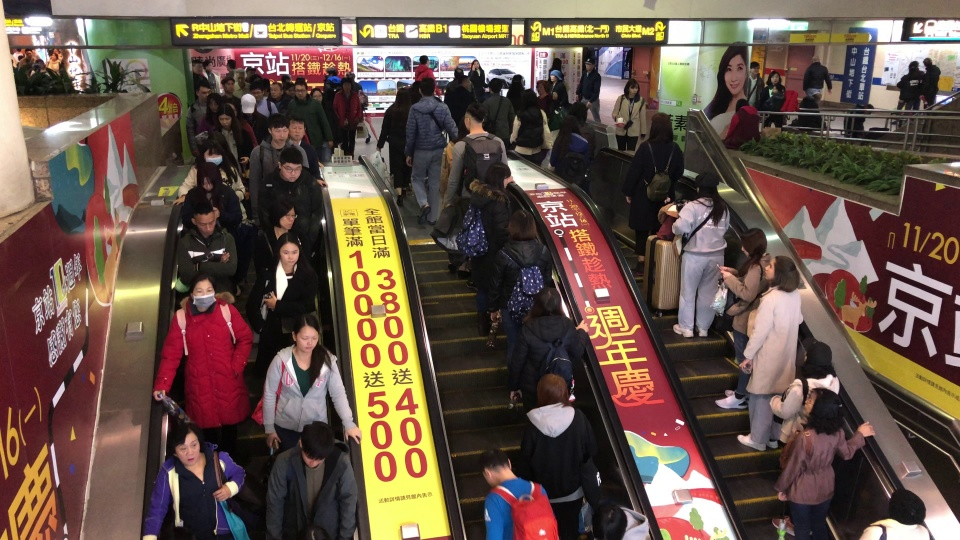person_head: (291, 314, 332, 389), (201, 135, 237, 186), (803, 390, 843, 434), (297, 420, 331, 469), (650, 112, 675, 174), (764, 256, 801, 296), (888, 488, 926, 524), (589, 506, 628, 540), (478, 450, 516, 483), (689, 169, 728, 201), (799, 340, 832, 376), (736, 228, 773, 259), (536, 373, 567, 409), (190, 198, 218, 237), (173, 425, 200, 465), (189, 272, 216, 312), (219, 73, 243, 116), (486, 161, 514, 196), (196, 161, 222, 196), (534, 286, 562, 318), (278, 147, 302, 184), (507, 210, 535, 240), (266, 112, 288, 150), (560, 111, 580, 152), (276, 233, 299, 267), (272, 197, 296, 228), (217, 104, 238, 136), (462, 104, 485, 131), (572, 98, 588, 126), (240, 93, 257, 119), (288, 116, 305, 141), (194, 82, 212, 105), (622, 79, 640, 99), (220, 73, 235, 95), (206, 92, 221, 114), (419, 77, 436, 96), (248, 82, 263, 100), (394, 86, 409, 104), (536, 79, 550, 98), (226, 101, 239, 121), (522, 89, 535, 109), (509, 74, 525, 90), (734, 97, 751, 112), (340, 76, 352, 97), (488, 76, 501, 95), (766, 70, 781, 86), (270, 80, 282, 99), (583, 55, 594, 73), (310, 87, 323, 102), (284, 82, 295, 98), (547, 69, 560, 81), (192, 60, 203, 74), (236, 69, 245, 86), (750, 60, 759, 76), (908, 60, 920, 72), (551, 55, 562, 68), (280, 72, 292, 83), (452, 67, 463, 79), (864, 104, 875, 116), (262, 77, 270, 93), (418, 55, 428, 67), (922, 55, 932, 67), (33, 59, 44, 69), (810, 92, 820, 103), (327, 67, 337, 77), (227, 59, 236, 70), (251, 73, 262, 82), (471, 58, 480, 69), (24, 46, 32, 58), (245, 66, 255, 75), (204, 59, 212, 70), (346, 71, 355, 80), (295, 74, 305, 82), (773, 83, 781, 93), (813, 54, 820, 64), (51, 52, 57, 61), (17, 53, 22, 62), (52, 46, 57, 55)
person_vbox: (158, 269, 255, 437), (776, 386, 878, 540), (263, 311, 363, 459), (737, 254, 808, 449), (508, 285, 591, 449), (669, 163, 741, 338), (514, 367, 587, 539), (715, 225, 781, 414), (262, 418, 357, 540), (246, 230, 320, 382), (444, 100, 508, 269), (158, 425, 252, 540), (250, 192, 324, 334), (485, 206, 553, 350), (469, 159, 521, 337), (401, 76, 462, 225), (625, 110, 678, 276), (770, 340, 842, 451), (477, 454, 558, 540), (169, 137, 249, 224), (175, 198, 239, 306), (250, 112, 309, 221), (258, 148, 323, 239), (182, 161, 242, 256), (378, 81, 419, 206), (284, 80, 334, 161), (859, 484, 930, 540), (212, 105, 256, 190), (546, 106, 587, 191), (510, 90, 553, 169), (288, 115, 329, 192), (611, 74, 646, 155), (581, 500, 649, 540), (444, 64, 477, 140), (334, 78, 361, 162), (724, 97, 760, 155), (575, 54, 604, 125), (344, 70, 371, 146), (486, 80, 512, 158), (186, 80, 212, 157), (571, 96, 601, 161), (888, 65, 917, 125), (203, 132, 239, 180), (226, 102, 259, 151), (763, 69, 788, 132), (797, 88, 832, 132), (901, 58, 922, 128), (242, 96, 270, 145), (411, 54, 441, 97), (841, 103, 875, 140), (803, 53, 833, 94), (309, 86, 333, 136), (322, 66, 342, 123), (533, 75, 556, 123), (921, 58, 941, 111), (505, 72, 530, 112), (746, 57, 764, 111), (249, 83, 278, 115), (200, 94, 223, 132), (466, 58, 487, 99), (547, 68, 569, 105), (289, 111, 310, 146), (205, 59, 221, 95), (29, 58, 52, 82), (233, 69, 250, 100), (549, 55, 569, 80), (408, 78, 424, 108), (268, 79, 282, 112), (282, 81, 296, 109), (20, 45, 34, 71), (190, 59, 205, 83), (46, 51, 59, 75), (770, 85, 783, 108), (52, 44, 64, 68), (225, 58, 237, 76), (246, 65, 256, 83), (14, 44, 24, 61), (9, 53, 17, 72), (16, 54, 26, 69), (46, 47, 52, 59)
